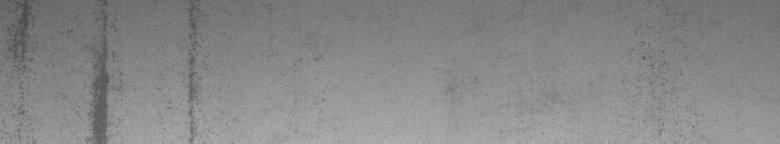hd: (184, 4, 204, 136)
